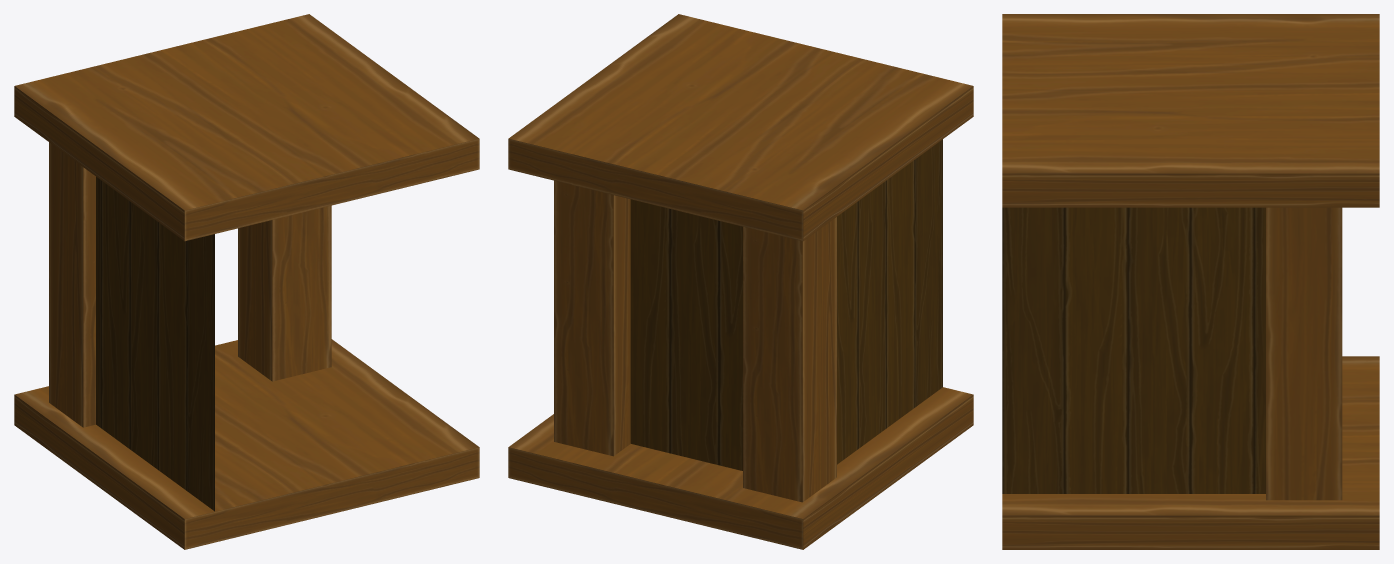
The model's file is SM_Bar_End.fbx.
3 views of the same model, side by side, from view 1: azimuth 30°, elevation 25°; view 2: azimuth 150°, elevation 25°; view 3: azimuth 270°, elevation 25° (orthographic). The views are drawn at different scales.
Visible parts, largest first — view 1: SM_Bar_End_LOD0; view 2: SM_Bar_End_LOD0; view 3: SM_Bar_End_LOD0.
Boxes of the visible parts, x1=… form: SM_Bar_End_LOD0: x1=14, y1=14, x2=479, y2=549; SM_Bar_End_LOD0: x1=508, y1=14, x2=973, y2=549; SM_Bar_End_LOD0: x1=1002, y1=14, x2=1379, y2=549.
Size of the model in its own units: 100 by 100 by 110.
